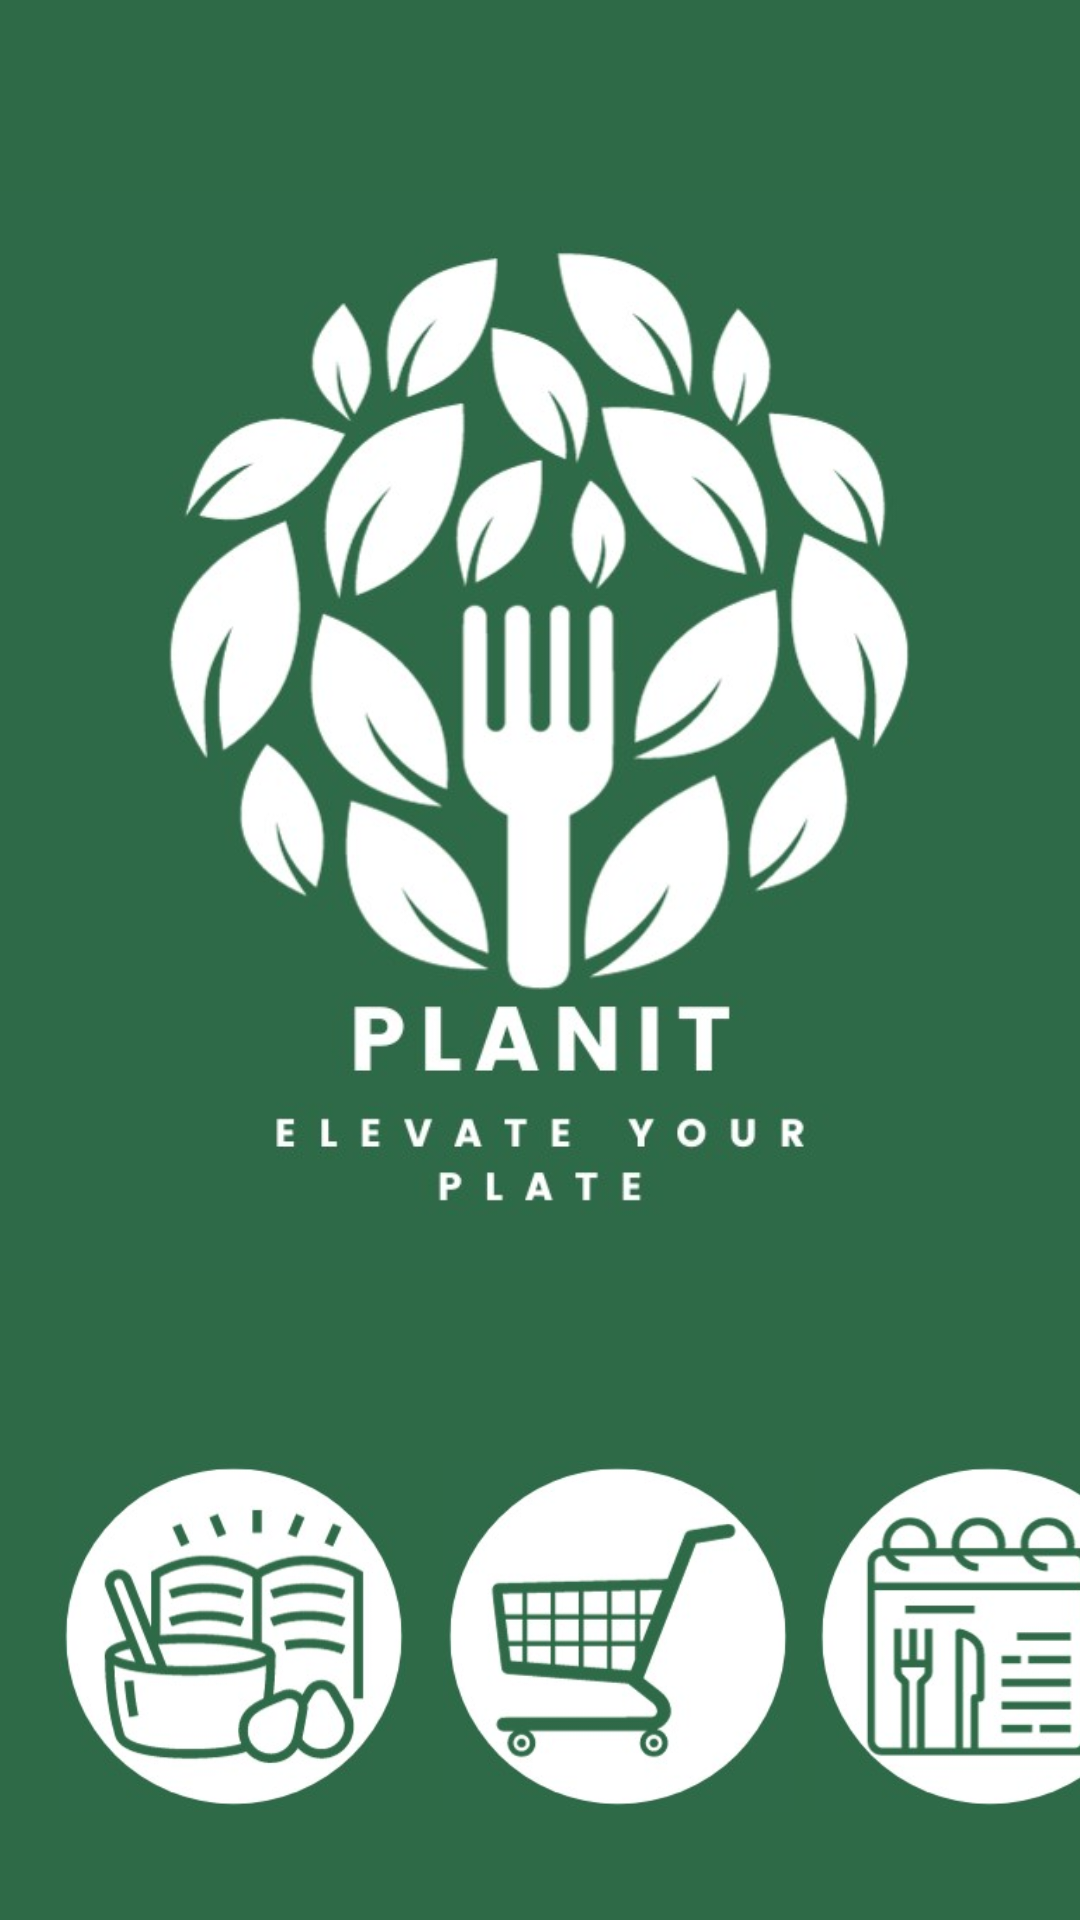

Where to tap for icons on this 1080px x 1920px app screen, as [x,y]:
recipebutton: [233,1636]
shoppingbutton: [617,1636]
